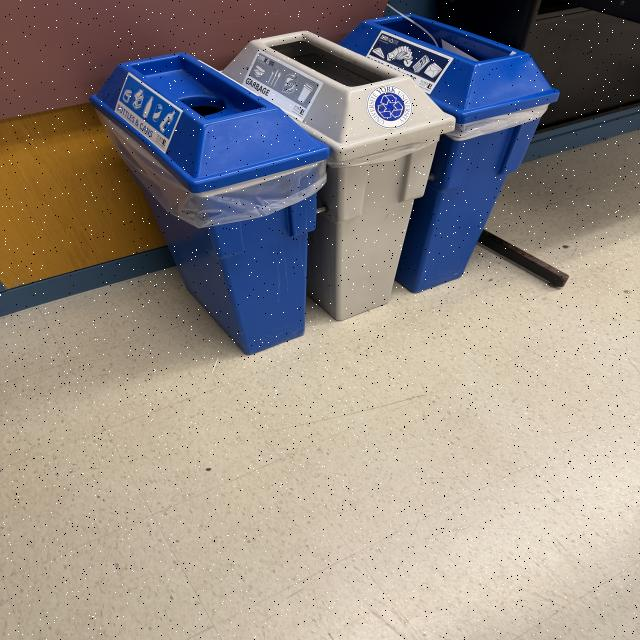Dustbin: (89, 9, 562, 357)
